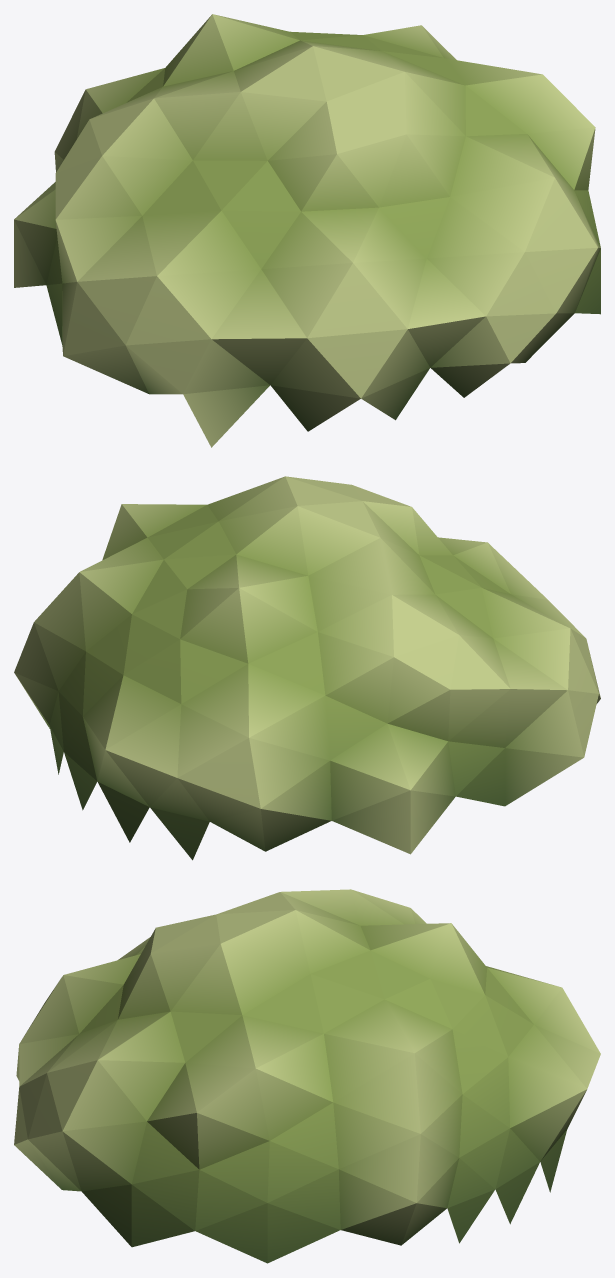
Rendered from coral-starmound.glb.
3 renders of one model, top to bottom at view 1: azimuth 30°, elevation 25°; view 2: azimuth 150°, elevation 25°; view 3: azimuth 270°, elevation 25°, orthographic. The views are drawn at different scales.
Parts seen in each view (by area): view 1: coral-starmound_mesh; view 2: coral-starmound_mesh; view 3: coral-starmound_mesh.
Part boxes in pixels (x1,y1,x2,y2): coral-starmound_mesh: [14, 14, 600, 447]; coral-starmound_mesh: [14, 476, 600, 860]; coral-starmound_mesh: [14, 889, 600, 1263].
Size of the model in its own units: 1.02 by 0.5196 by 1.05.
